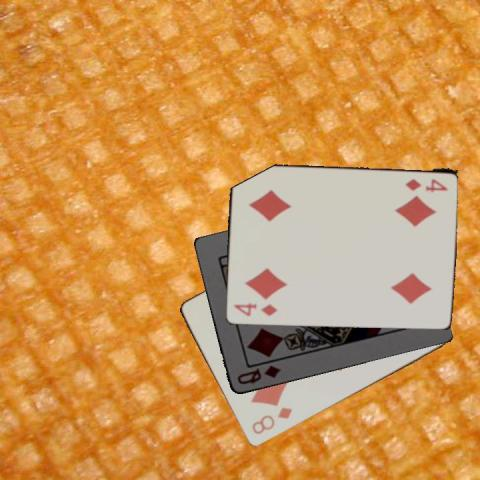4d: (230, 300, 278, 318), (402, 176, 449, 193)
8d: (249, 405, 294, 436)
Qd: (234, 363, 283, 386)
